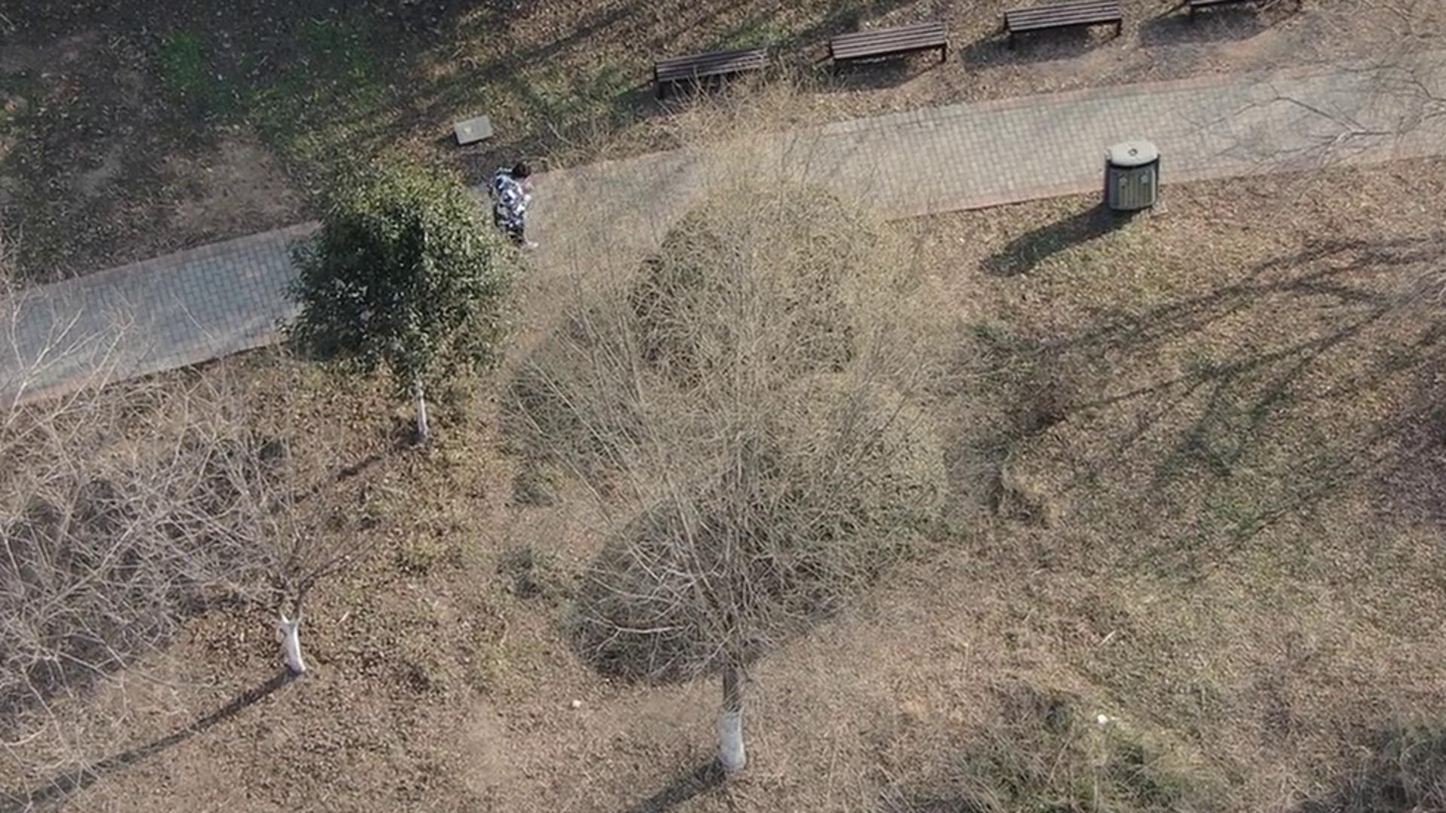human: (508, 163, 552, 262)
